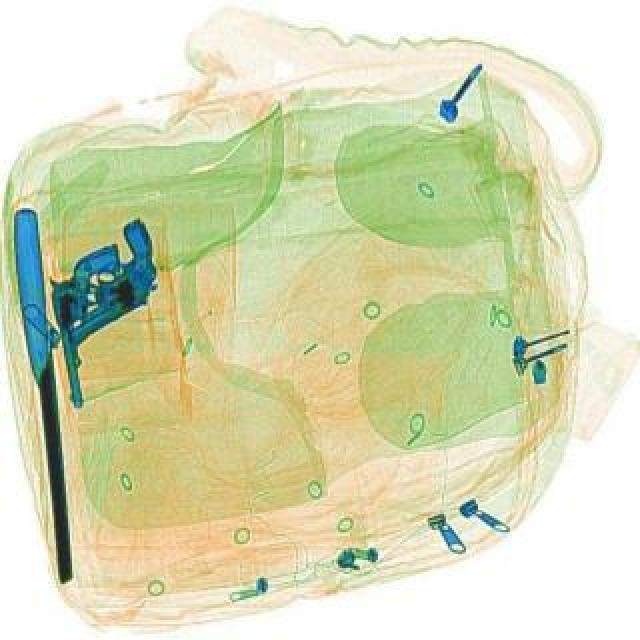gun: (28, 214, 188, 346), (38, 240, 146, 406)
knife: (8, 204, 78, 580)
